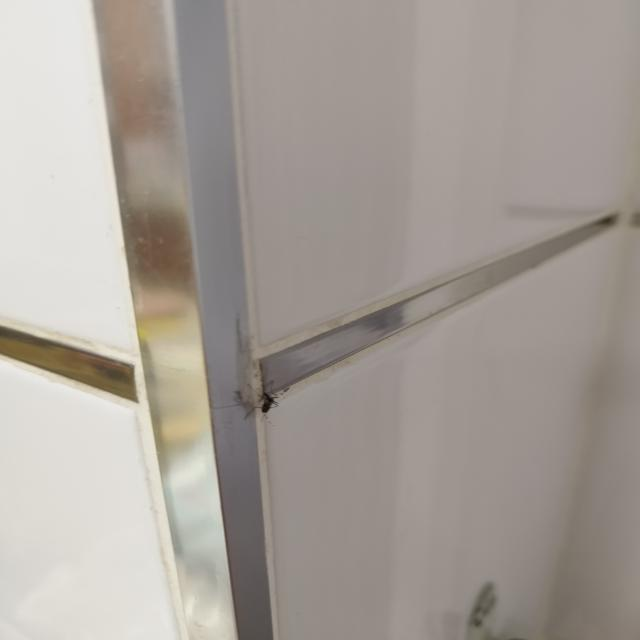albopictus: (222, 367, 299, 427)
